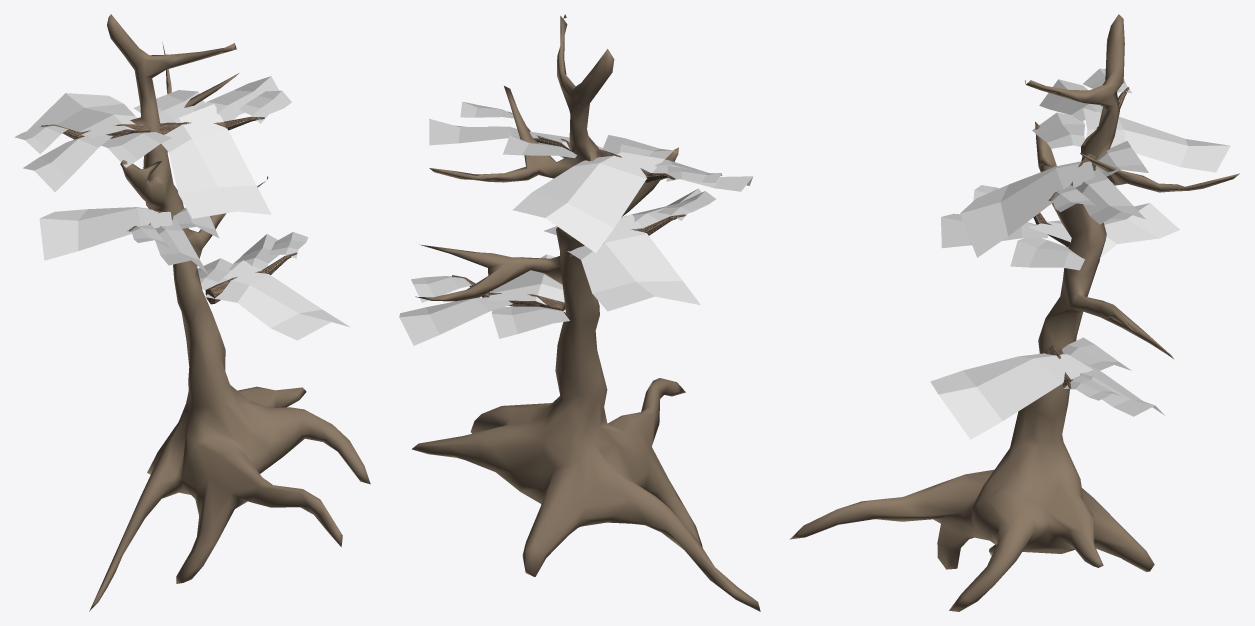
The model's file is LowPolyTree.fbx.
3 renders of one model, left to right at view 1: azimuth 30°, elevation 25°; view 2: azimuth 150°, elevation 25°; view 3: azimuth 270°, elevation 25°, orthographic. The views are drawn at different scales.
Visible parts, largest first — view 1: Cube, Cylinder.003, Cylinder, Cylinder.002, Cylinder.001; view 2: Cube, Cylinder, Cylinder.001, Cylinder.002, Cylinder.003; view 3: Cube, Cylinder.002, Cylinder.003, Cylinder, Cylinder.001.
Part boxes in pixels (x1,y1,x2,y2): Cube: (89, 14, 370, 611); Cylinder.003: (133, 76, 291, 218); Cylinder: (14, 93, 171, 191); Cylinder.002: (197, 232, 350, 340); Cylinder.001: (39, 207, 219, 274); Cube: (412, 14, 760, 611); Cylinder: (512, 135, 752, 252); Cylinder.001: (544, 188, 716, 311); Cylinder.002: (399, 254, 569, 345); Cylinder.003: (429, 101, 602, 158); Cube: (789, 14, 1239, 611); Cylinder.002: (930, 337, 1164, 439); Cylinder.003: (960, 141, 1148, 257); Cylinder: (1032, 68, 1230, 172); Cylinder.001: (941, 185, 1179, 270).
Size of the model in its own units: 573 by 1001 by 700.
